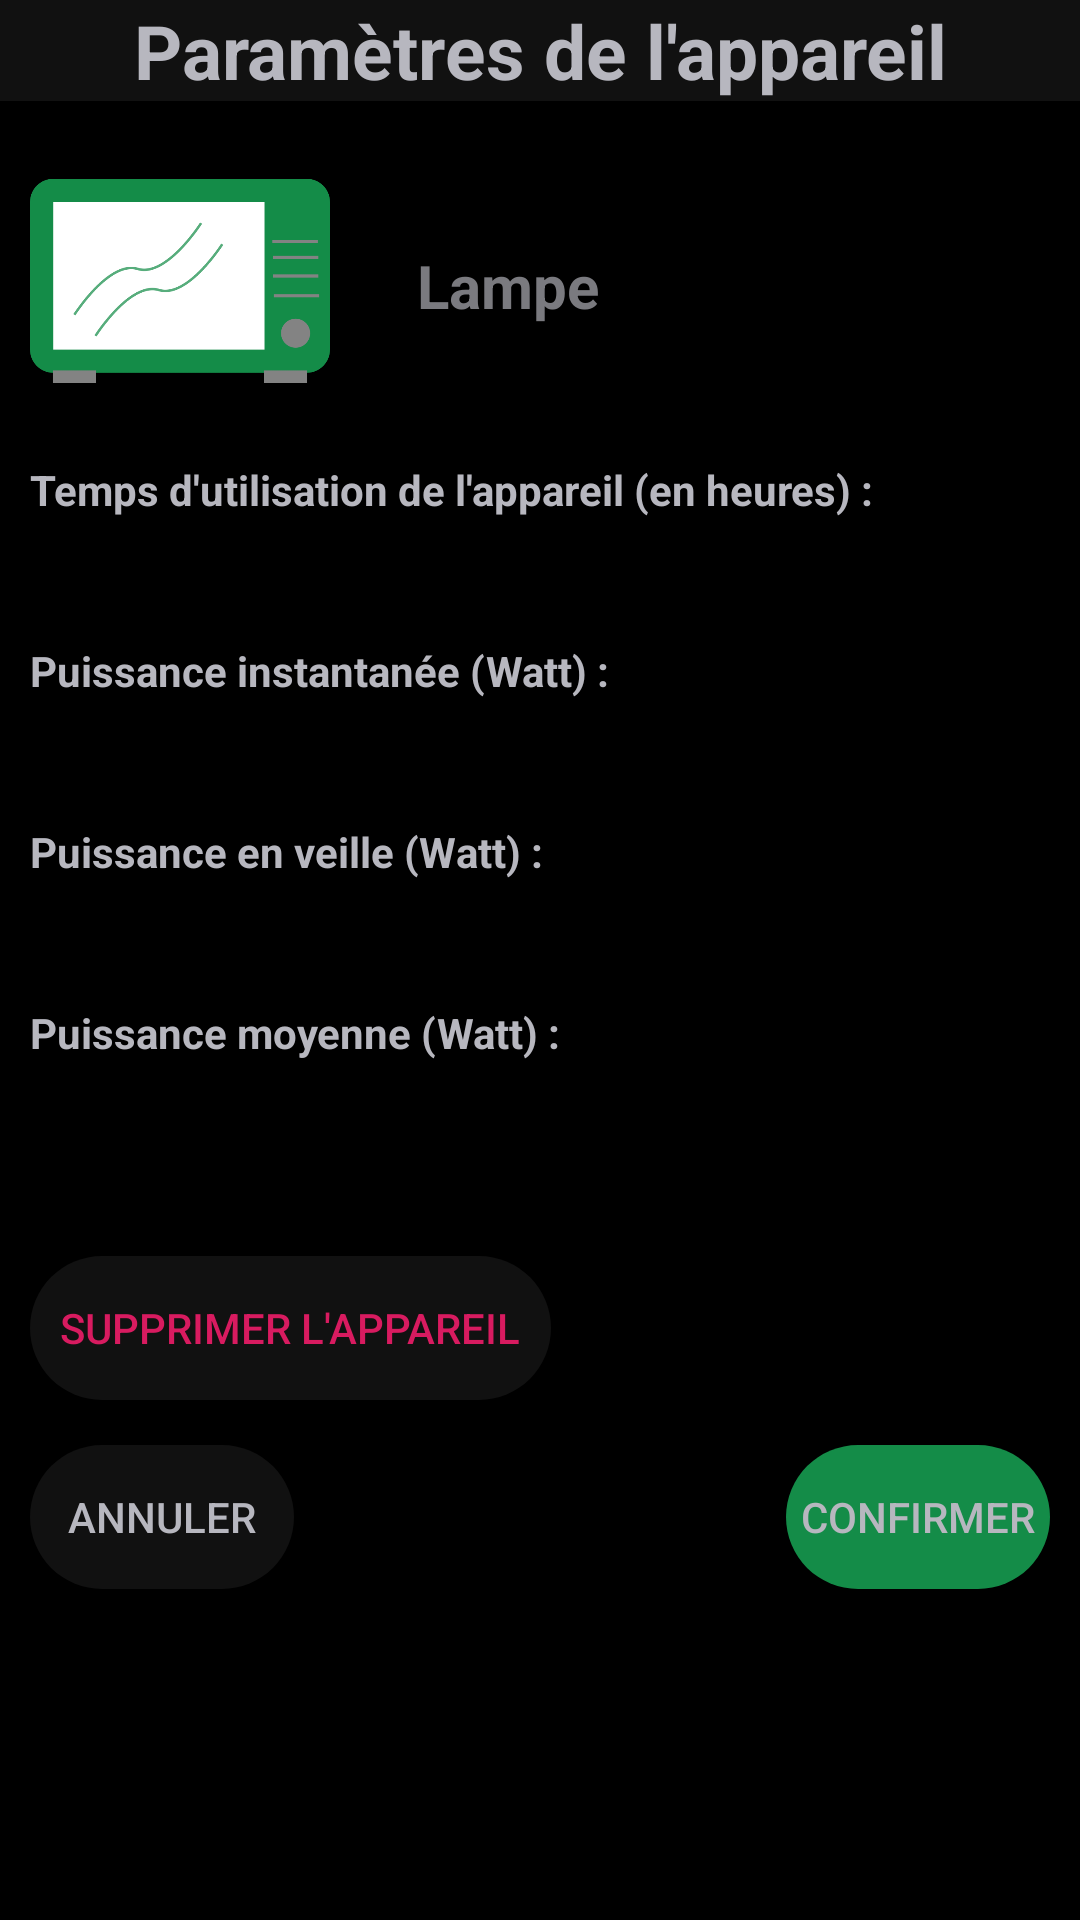

Icons on this 1080px×1920px Android screen, each with its box as (x1, y1, x2, y2):
microwave: (30, 179, 330, 383)
